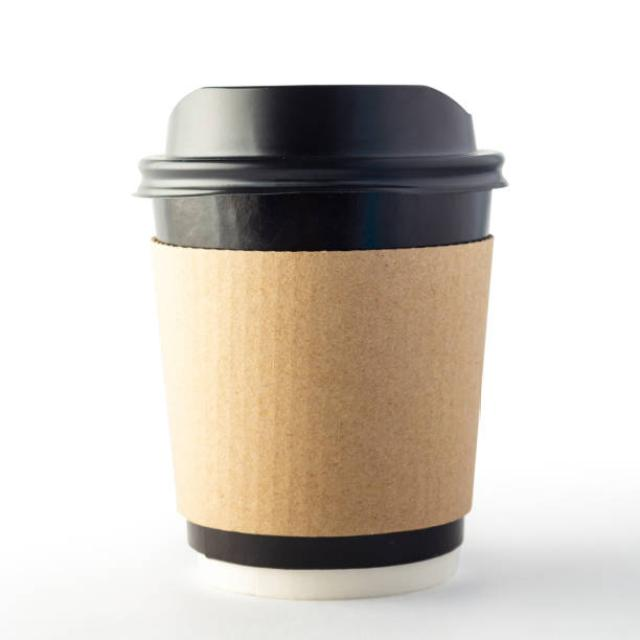cup: (125, 84, 509, 603)
